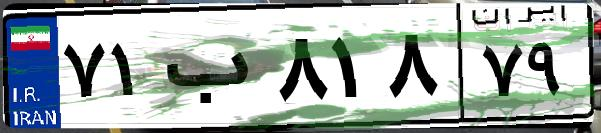1: (330, 28, 385, 110), (110, 28, 158, 98)
7: (57, 26, 110, 100), (475, 38, 525, 113)
8: (270, 28, 330, 110), (385, 28, 445, 110)
9: (525, 38, 570, 115)
ب: (158, 20, 270, 120)
